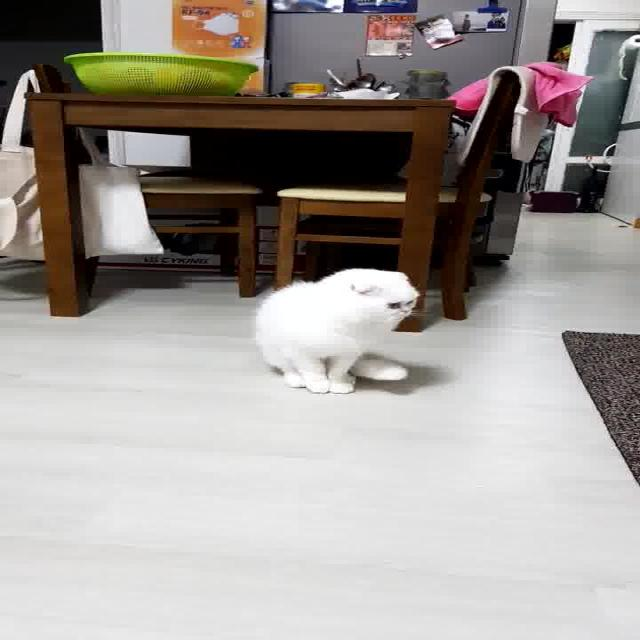cat: (230, 255, 442, 401)
